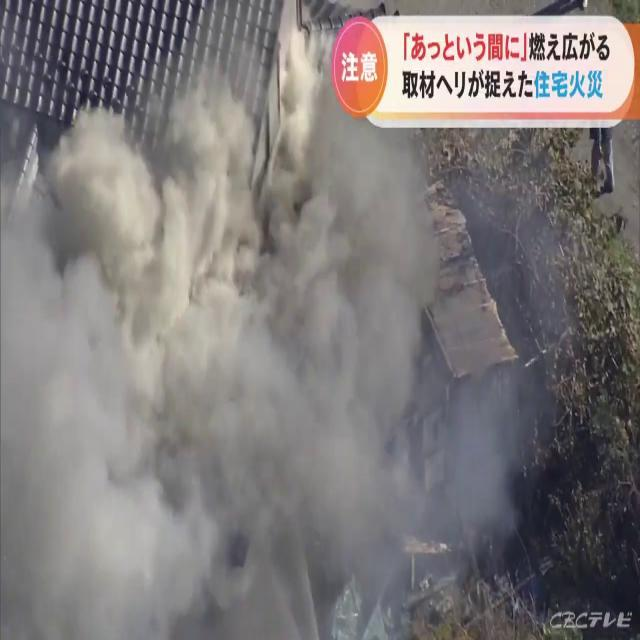Smoke: (1, 18, 548, 640)
